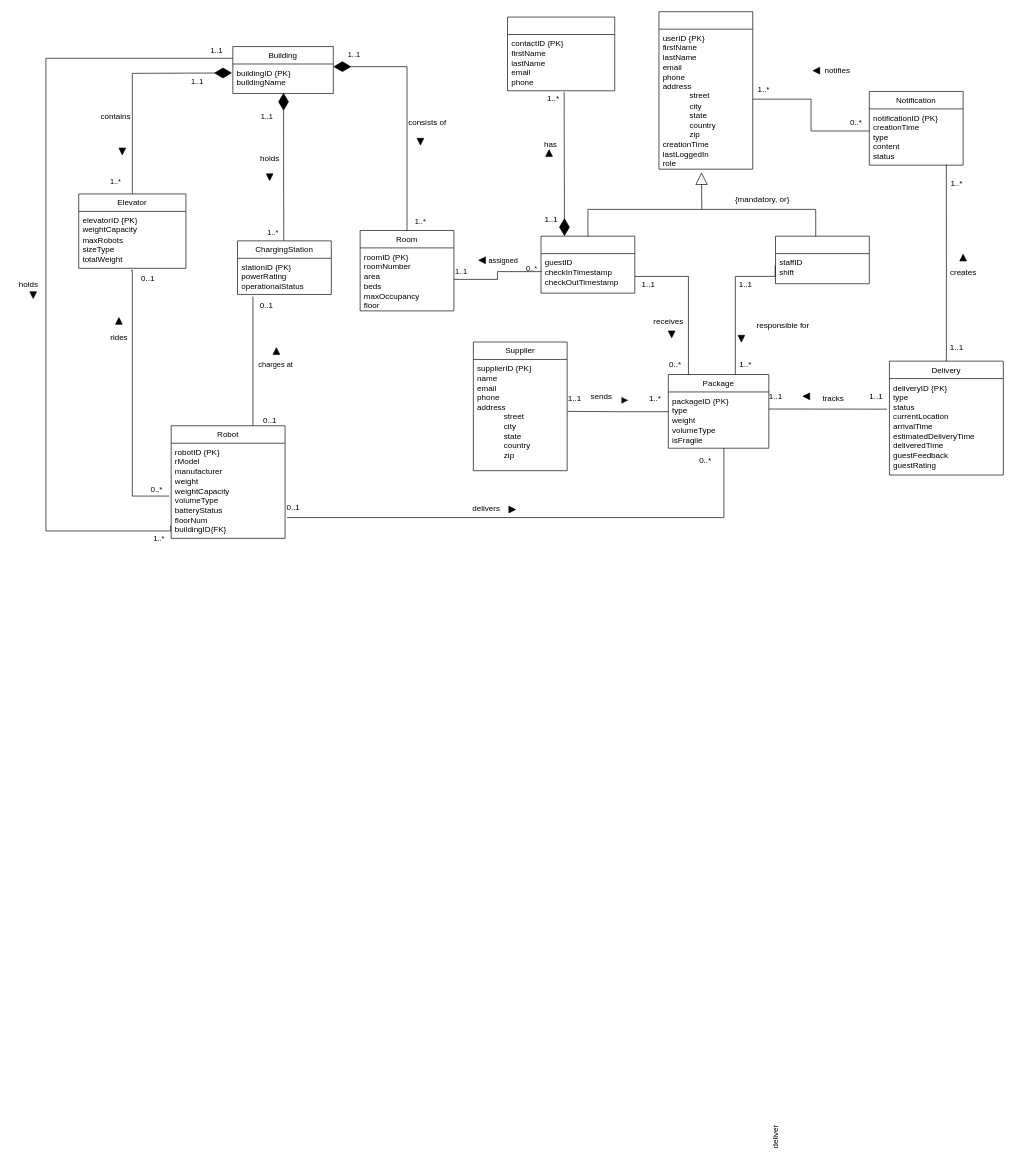
Some shapes in this 1015 by 1169 pixel diagram are drawn without their labels. Each missing label, with the box of its shape:
EmergencyContact: (507, 16, 615, 91)
Guests: (540, 236, 635, 293)
Staffs: (775, 236, 869, 284)
Users: (658, 11, 753, 169)
